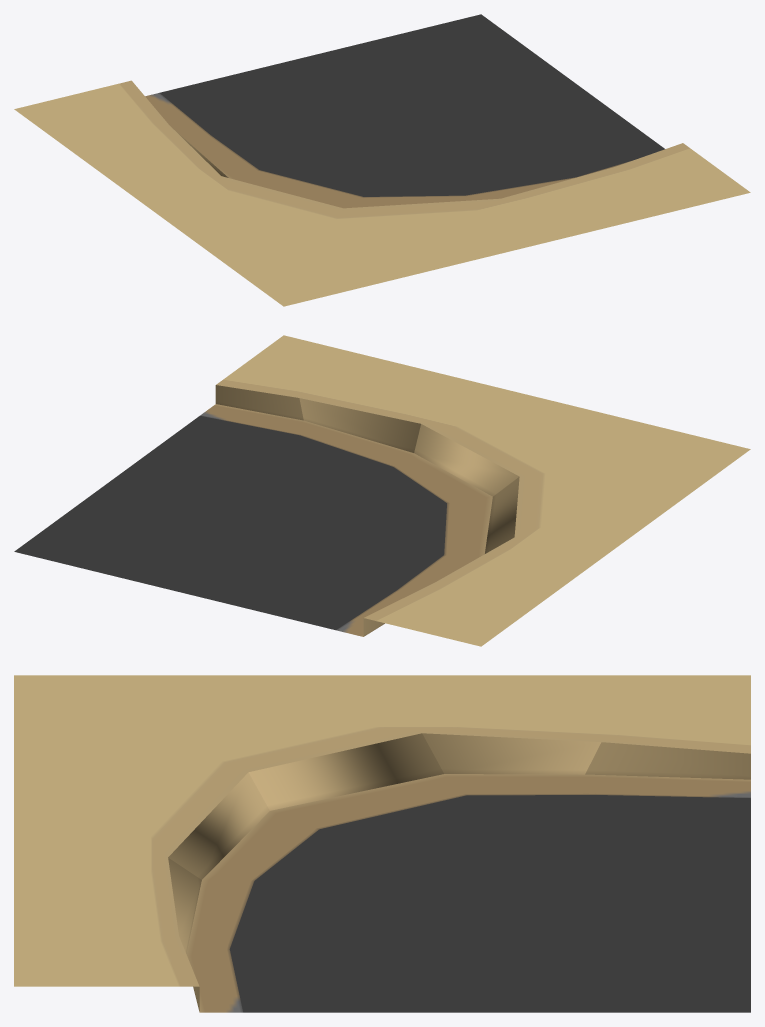
Rendered from SM_Env_Road_Asphalt_Bend_01.gltf.
3 views of the same model, one above another, from view 1: azimuth 30°, elevation 25°; view 2: azimuth 150°, elevation 25°; view 3: azimuth 270°, elevation 25° (orthographic). The views are drawn at different scales.
Parts seen in each view (by area): view 1: SM_Env_Road_Asphalt_Bend_01; view 2: SM_Env_Road_Asphalt_Bend_01; view 3: SM_Env_Road_Asphalt_Bend_01.
Boxes of the visible parts, x1,y1,x2,y2 form: SM_Env_Road_Asphalt_Bend_01: [14, 14, 750, 306]; SM_Env_Road_Asphalt_Bend_01: [14, 335, 750, 646]; SM_Env_Road_Asphalt_Bend_01: [14, 675, 750, 1012].
Bounding box in the file's own units: 5 × 0.1948 × 5.
1 material, 1 textured.
